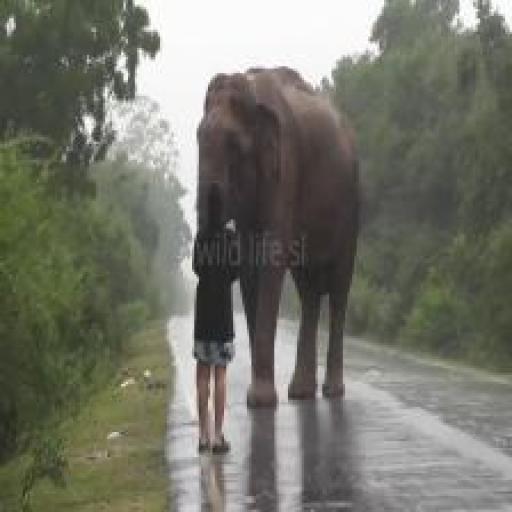Elephant: (176, 43, 360, 470)
